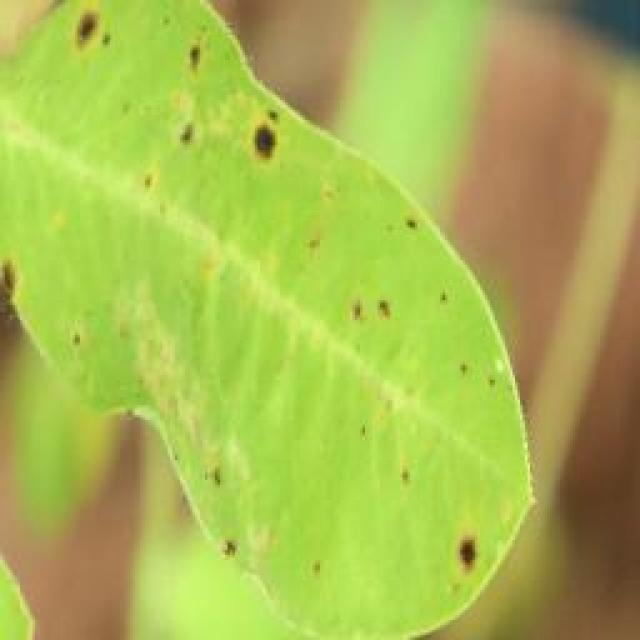Early_leaf_spot: (304, 254, 426, 348), (187, 466, 265, 576), (226, 82, 306, 178), (438, 274, 496, 401), (0, 225, 65, 319), (144, 89, 225, 158), (158, 18, 224, 101), (48, 0, 128, 68), (430, 509, 484, 594), (385, 199, 441, 267), (378, 449, 428, 508), (131, 190, 193, 228)
